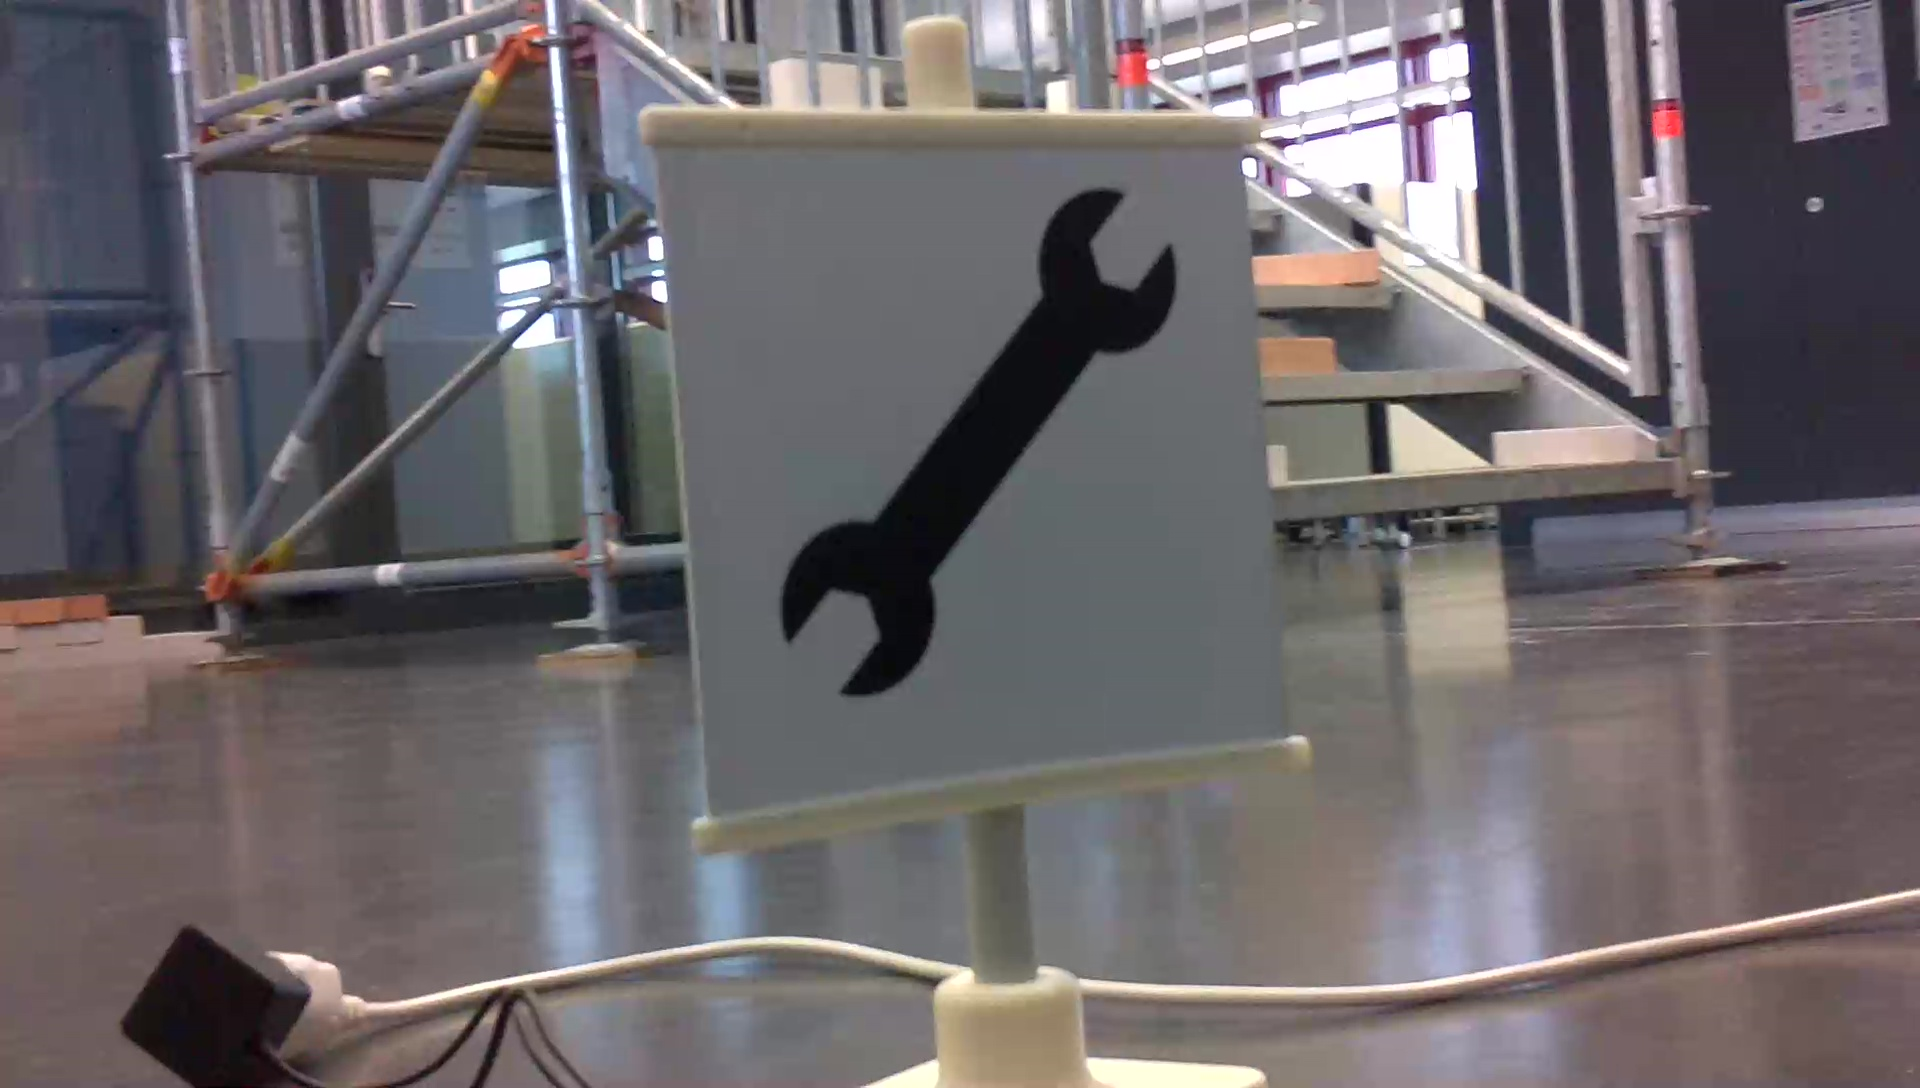brick: (1495, 425, 1635, 466), (1250, 253, 1378, 284), (1262, 338, 1335, 376)
edge: (1273, 463, 1669, 518), (1262, 367, 1535, 401), (1253, 280, 1407, 315)
wrench: (767, 175, 1191, 706)
